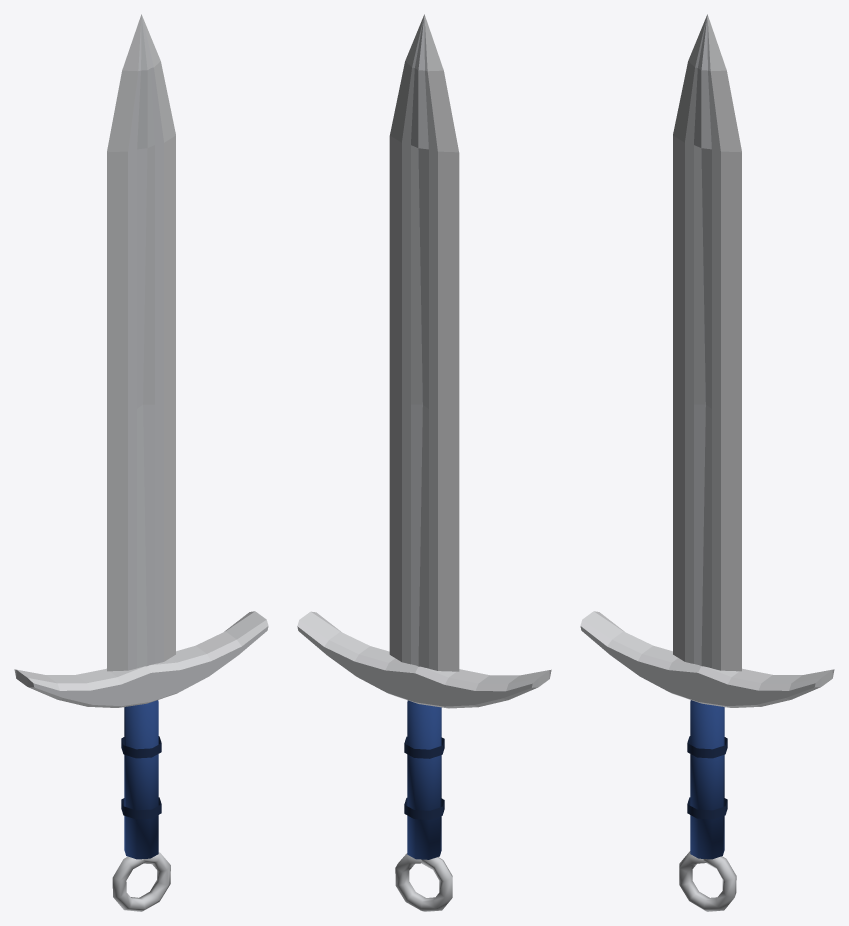
The model's file is silver_broadsword.glb.
The picture shows the model from 3 angles, left to right: view 1: azimuth 30°, elevation 25°; view 2: azimuth 150°, elevation 25°; view 3: azimuth 330°, elevation 25°; orthographic projection.
Parts seen in each view (by area): view 1: silver_broadsword_v0; view 2: silver_broadsword_v0; view 3: silver_broadsword_v0.
Boxes of the visible parts, box(x1,y1,x2,y2) form: silver_broadsword_v0: box(14, 14, 268, 911); silver_broadsword_v0: box(297, 14, 551, 911); silver_broadsword_v0: box(580, 14, 834, 911).
Bounding box in the file's own units: 0.3277 × 1.18 × 0.0496.
